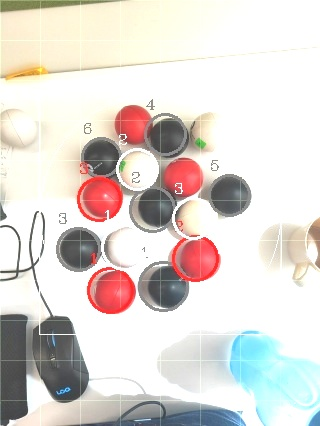Pelota blanca: (287, 214, 320, 288), (103, 225, 147, 270), (172, 196, 219, 238), (255, 220, 283, 288), (116, 148, 158, 190), (188, 110, 230, 152), (0, 108, 38, 147), (0, 225, 25, 283)
Pelota negra: (31, 326, 89, 403), (137, 260, 190, 312), (127, 185, 174, 235), (143, 110, 190, 158), (207, 172, 254, 219), (55, 225, 100, 272), (79, 134, 121, 176), (159, 406, 246, 425)
Pelota roja: (84, 265, 137, 315), (167, 236, 222, 283), (74, 174, 123, 224), (161, 156, 203, 198), (113, 103, 153, 144)
